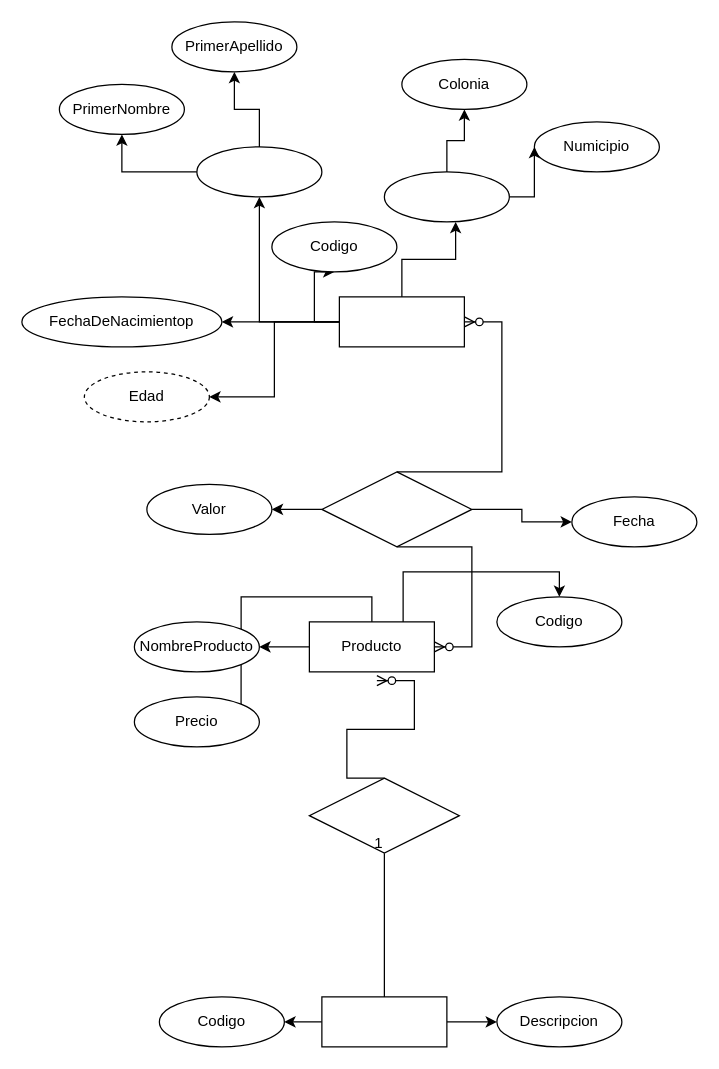
Image size: 719x1069. Some labels were removed from this diagram. Each missing label, with the centre of its shape:
"Categoria" goes at (384,1021).
"Cliente" goes at (401,321).
"Compra" goes at (396,509).
"Direccion" goes at (446,196).
"Nombre" goes at (259,171).
"Pertenece" goes at (383,815).
